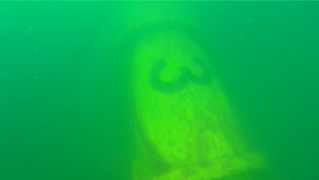3: (149, 55, 213, 94)
pipe: (113, 1, 270, 179)
